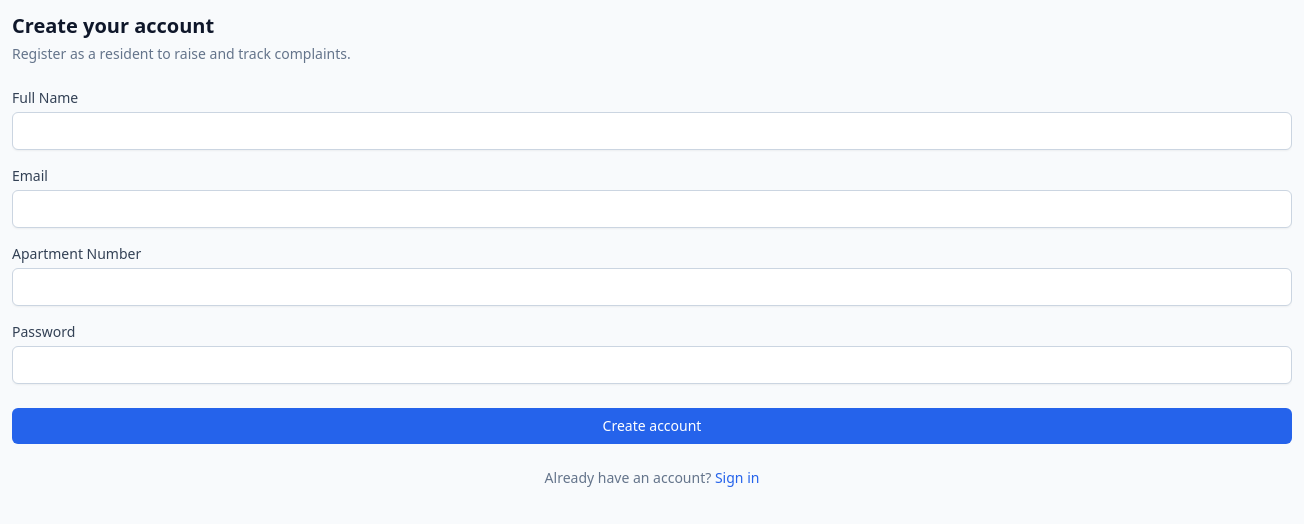
Test case: Registration validation › requires a full name of at least 2 characters
The width and height of the screenshot is (1304, 524).
Step 1. Type "A" into the field labelled "Full Name" → (652, 131), box [12, 112, 1292, 150]
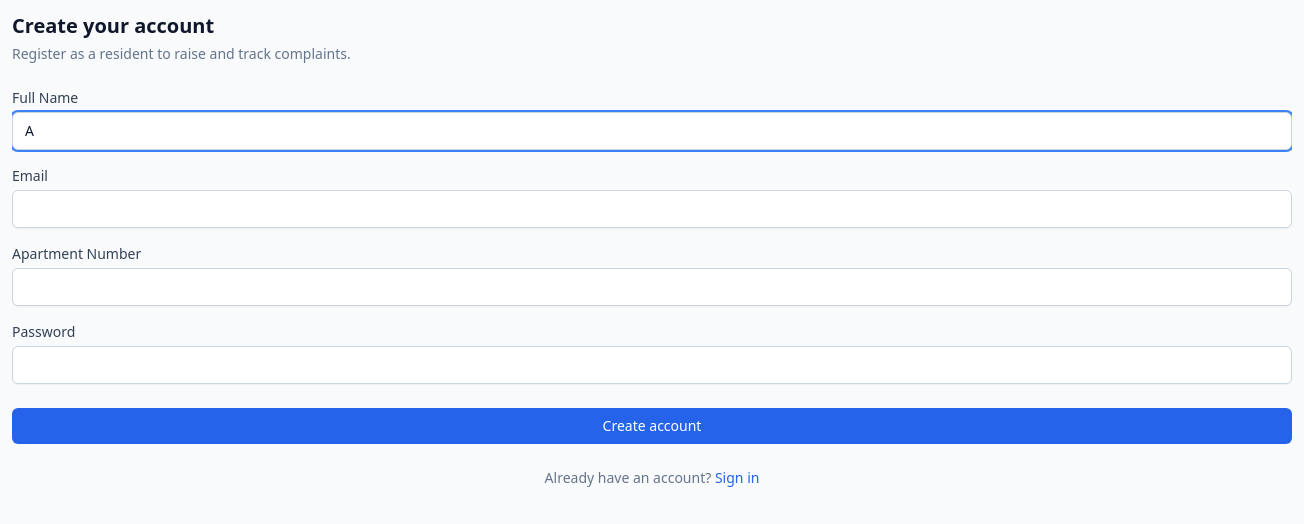
Step 2. Type "new@example.com" into the field labelled "Email" → (652, 209), box [12, 190, 1292, 228]
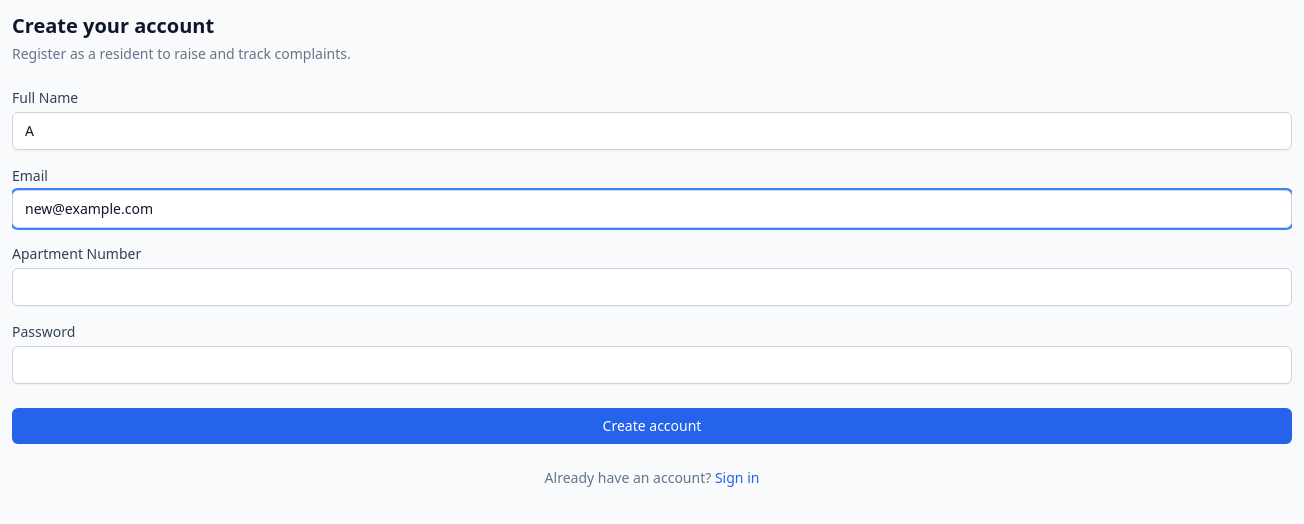
Step 3. Type "A-101" into the field labelled "Apartment Number" → (652, 287), box [12, 268, 1292, 306]
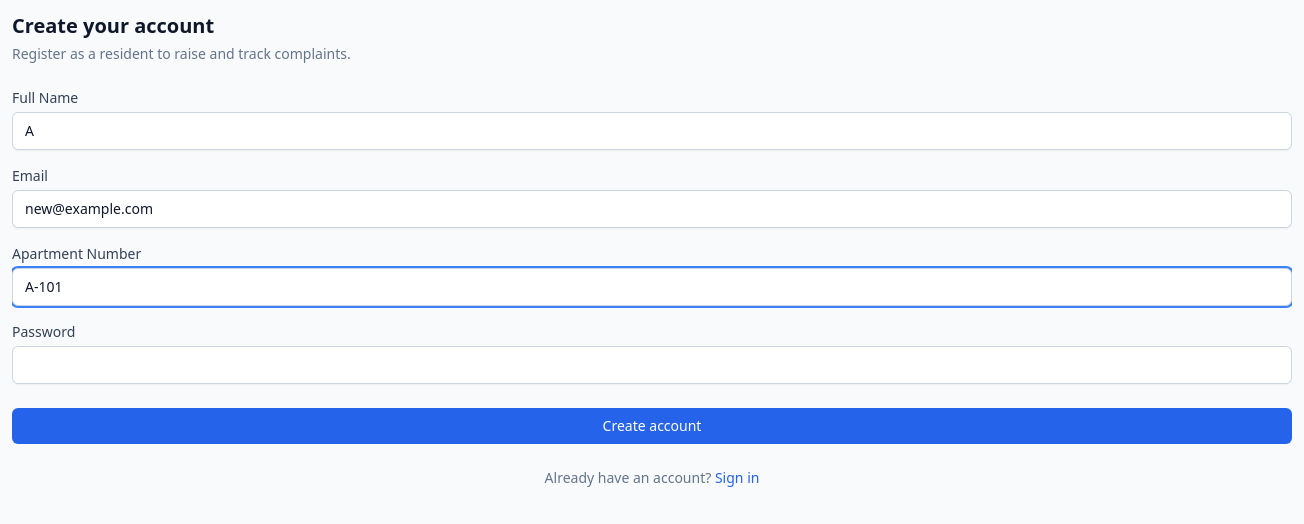
Step 4. Type "Password@123" into the password field labelled "Password" → (652, 365), box [12, 346, 1292, 384]
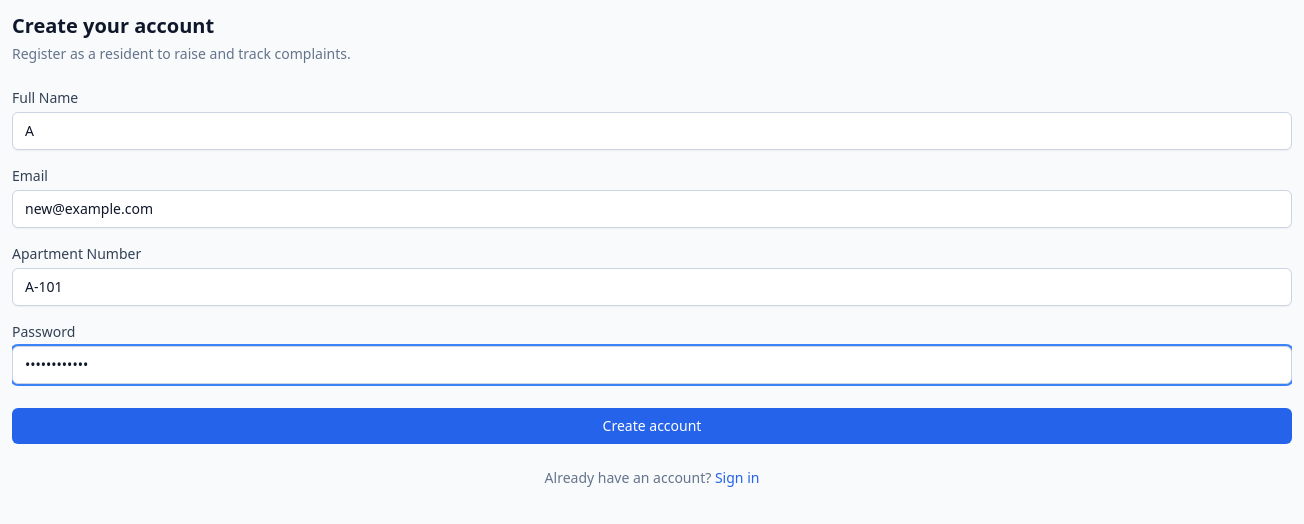
Step 5. Click the button "Create account" → (652, 426), box [12, 408, 1292, 444]
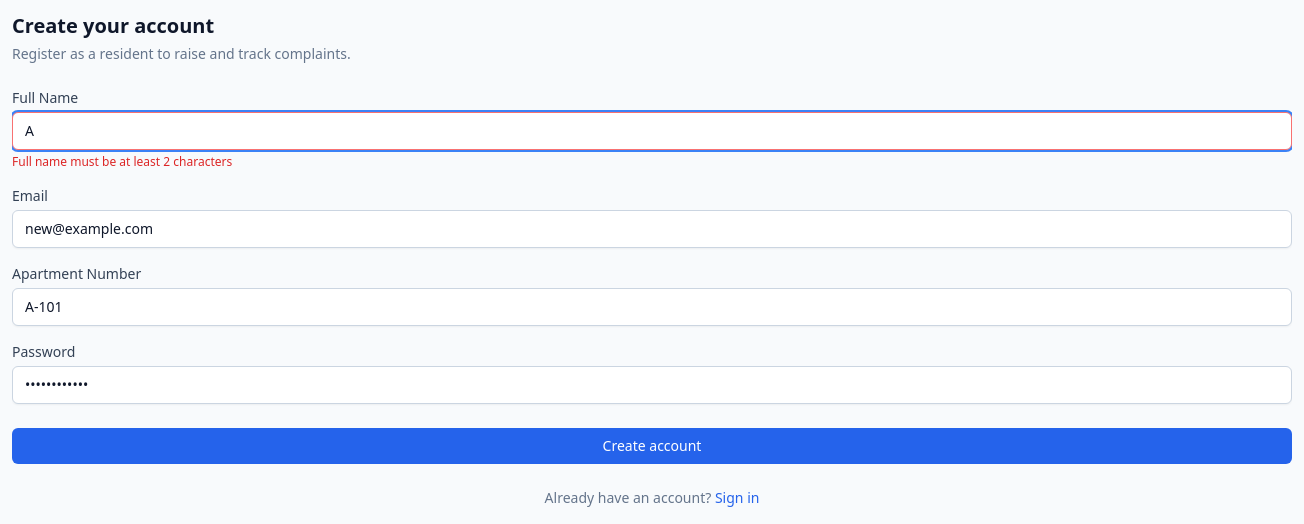
Now the text "Full name must be at least 2 characters" is shown, box [12, 153, 232, 170]
